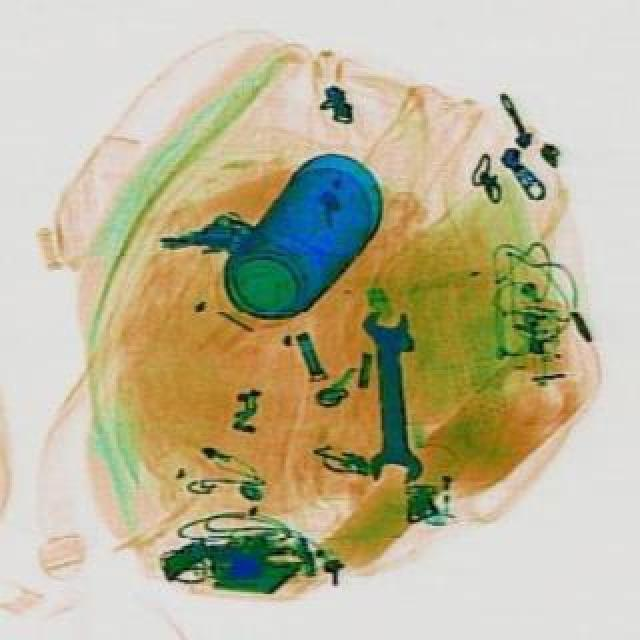scissors: (358, 308, 418, 484)
